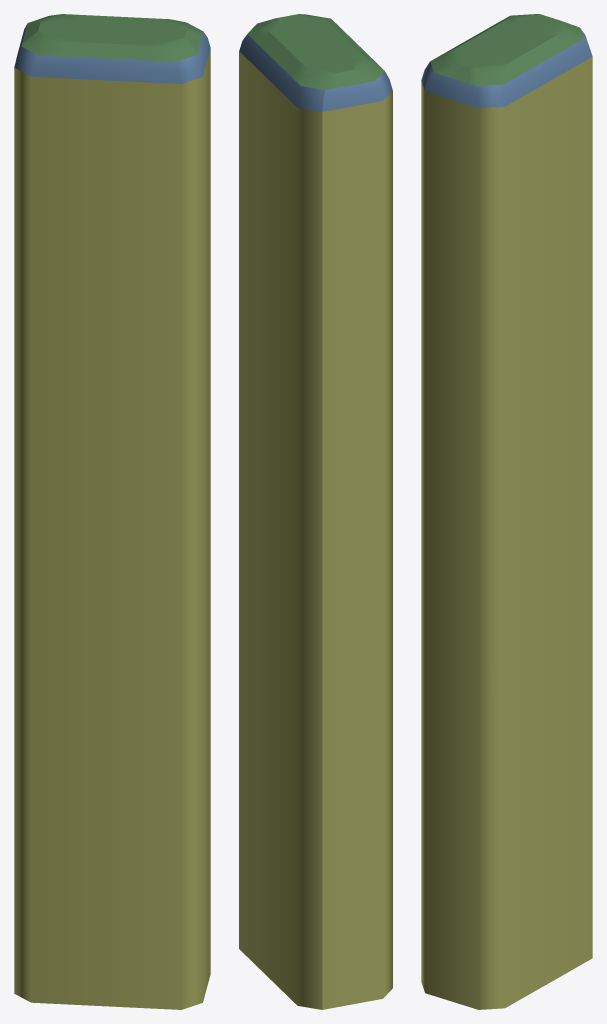
The model's file is Mini_PLat11.fbx.
3 views of the same model, side by side, from view 1: azimuth 30°, elevation 25°; view 2: azimuth 150°, elevation 25°; view 3: azimuth 270°, elevation 25° (orthographic). The views are drawn at different scales.
Visible parts, largest first — view 1: polySurface149, Ground8, polySurface148; view 2: polySurface149, Ground8, polySurface148; view 3: polySurface149, Ground8, polySurface148.
Part boxes in pixels (x1,y1,x2,y2): polySurface149: (14, 49, 210, 1009); Ground8: (21, 14, 203, 61); polySurface148: (14, 24, 210, 83); polySurface149: (239, 51, 392, 1009); Ground8: (247, 14, 384, 89); polySurface148: (239, 34, 392, 111); polySurface149: (421, 57, 592, 1009); Ground8: (430, 14, 583, 85); polySurface148: (421, 28, 592, 108).
Size of the model in its own units: 2773 by 15089 by 2525.
